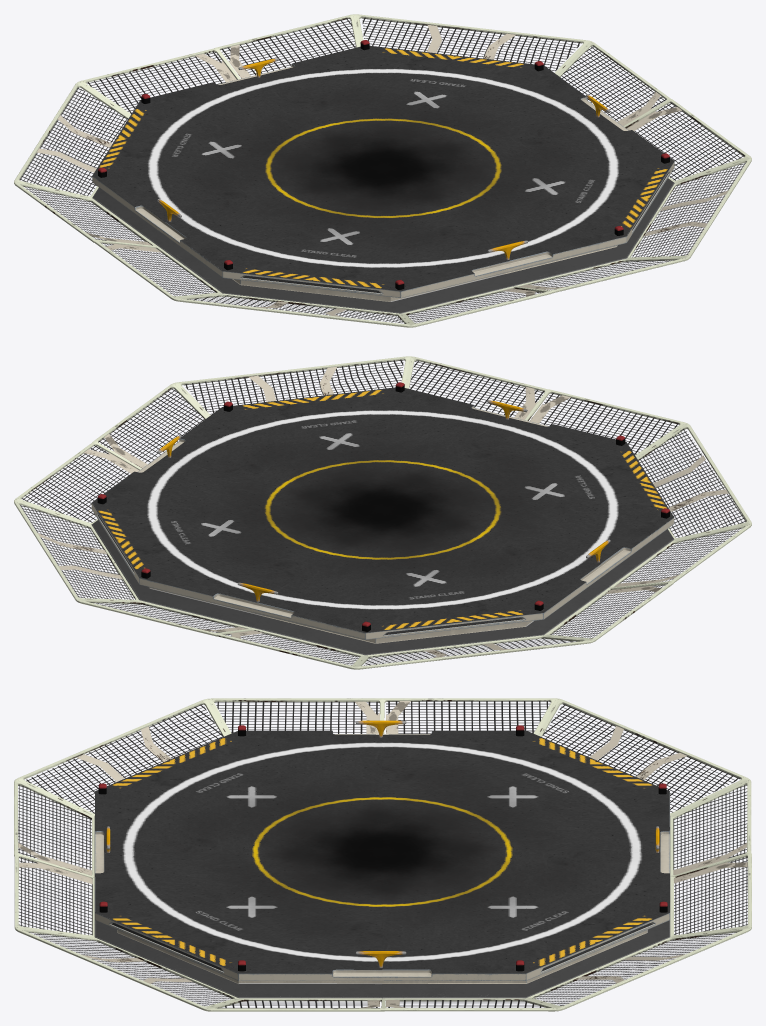
File: DronePad.glb
3 renders of one model, top to bottom at view 1: azimuth 30°, elevation 25°; view 2: azimuth 150°, elevation 25°; view 3: azimuth 270°, elevation 25°, orthographic. The views are drawn at different scales.
Parts seen in each view (by area): view 1: GeometryNode_47, GeometryNode_14, GeometryNode_36, GeometryNode_3; view 2: GeometryNode_47, GeometryNode_14, GeometryNode_36, GeometryNode_3; view 3: GeometryNode_47, GeometryNode_14, GeometryNode_36, GeometryNode_3.
Part boxes in pixels (bbox=[...]): GeometryNode_47: bbox=[92, 45, 674, 313]; GeometryNode_14: bbox=[19, 17, 745, 323]; GeometryNode_36: bbox=[14, 14, 751, 327]; GeometryNode_3: bbox=[98, 40, 669, 289]; GeometryNode_47: bbox=[91, 387, 674, 655]; GeometryNode_14: bbox=[20, 359, 746, 665]; GeometryNode_36: bbox=[14, 356, 751, 669]; GeometryNode_3: bbox=[97, 382, 669, 631]; GeometryNode_47: bbox=[94, 730, 670, 998]; GeometryNode_14: bbox=[18, 701, 747, 1008]; GeometryNode_36: bbox=[14, 698, 751, 1011]; GeometryNode_3: bbox=[98, 720, 667, 971].
Bounding box in the file's own units: 44.91 × 2.88 × 44.91.
4 materials, 4 textured.
